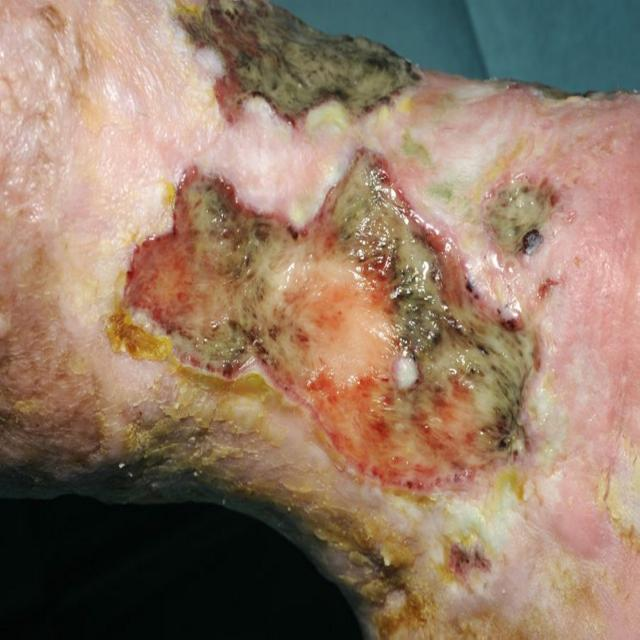wound: (110, 4, 557, 495)
